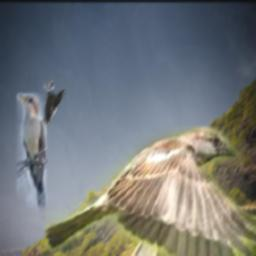Crow: (39, 82, 67, 126)
Cuckoo: (18, 93, 48, 226)
Sparrow: (45, 127, 256, 256)
